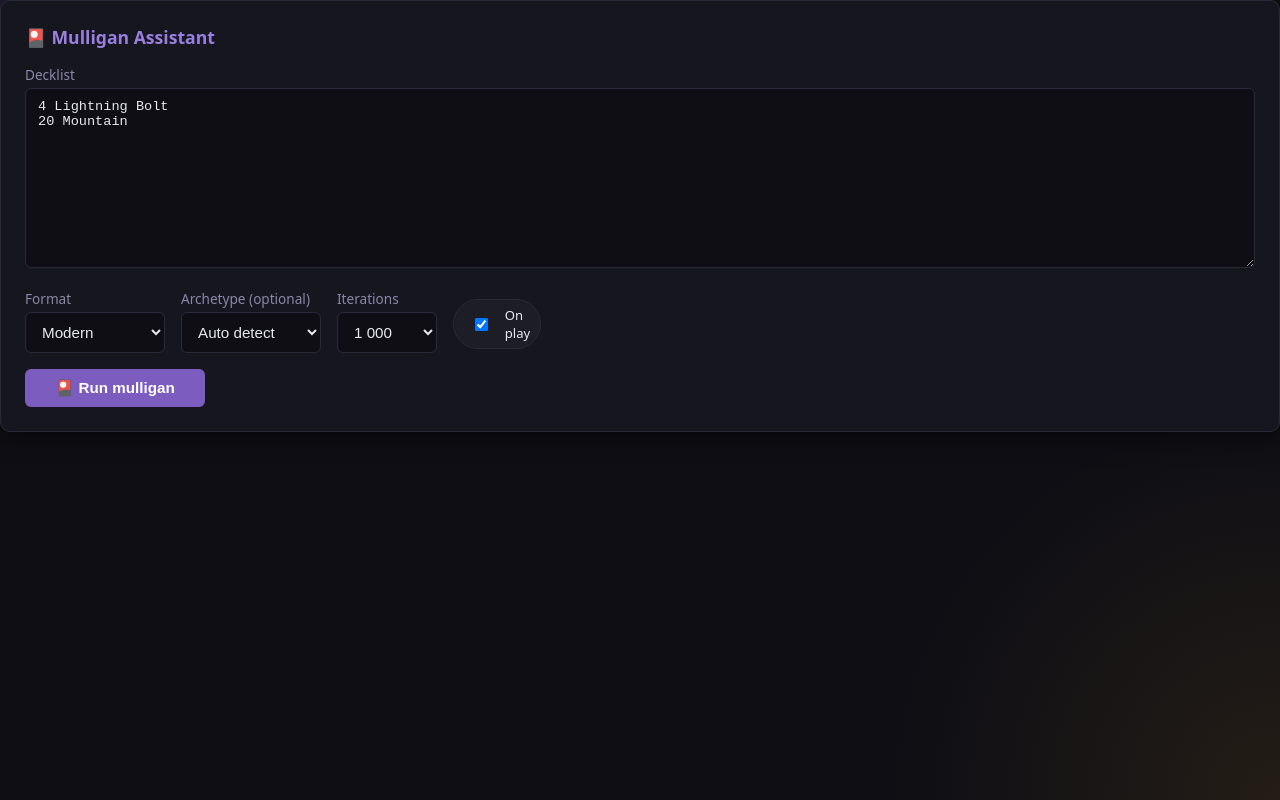
Test: MulliganAssistant › runs simulation and renders recommendation
Click the button "🎴 Run mulligan" at [115, 388], box left=25, top=369, right=205, bottom=407
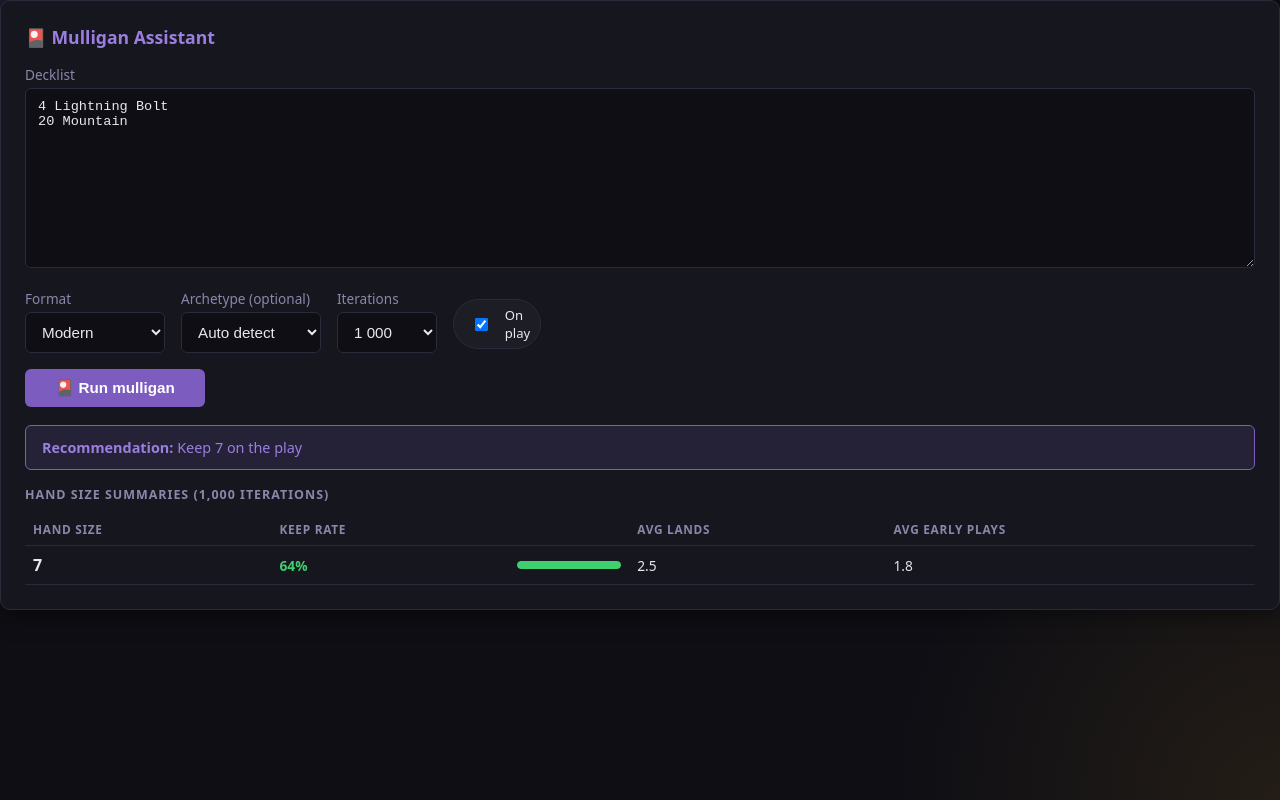
Now the text "Recommendation:" is shown, box left=42, top=438, right=174, bottom=457
Now the text "Keep 7 on the play" is shown, box left=177, top=438, right=302, bottom=457
